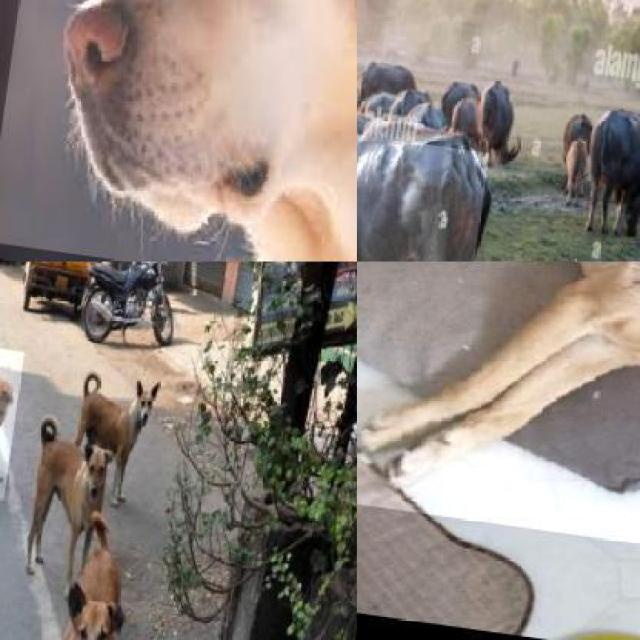buffalo: (357, 123, 488, 262), (580, 115, 640, 234), (476, 80, 521, 163), (357, 49, 421, 105), (441, 83, 479, 134)
dog: (0, 0, 357, 262), (357, 262, 640, 588), (18, 393, 122, 573), (68, 342, 158, 509), (34, 534, 135, 640), (0, 340, 23, 498)
